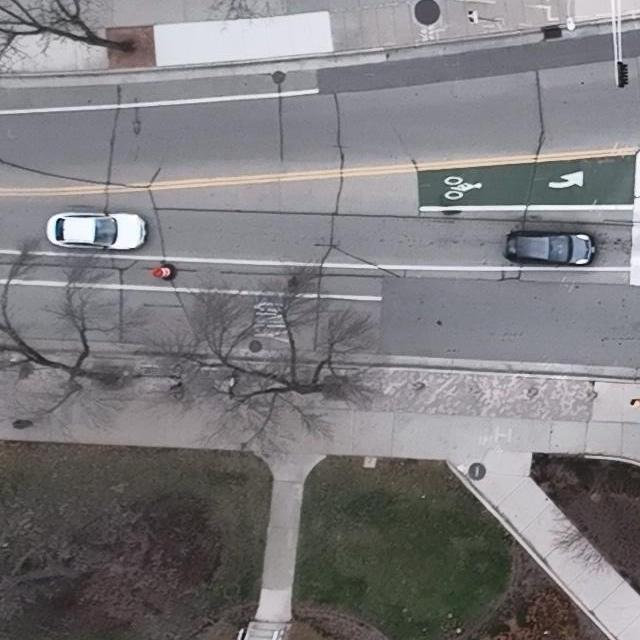car: (45, 211, 148, 251), (502, 229, 595, 266)
